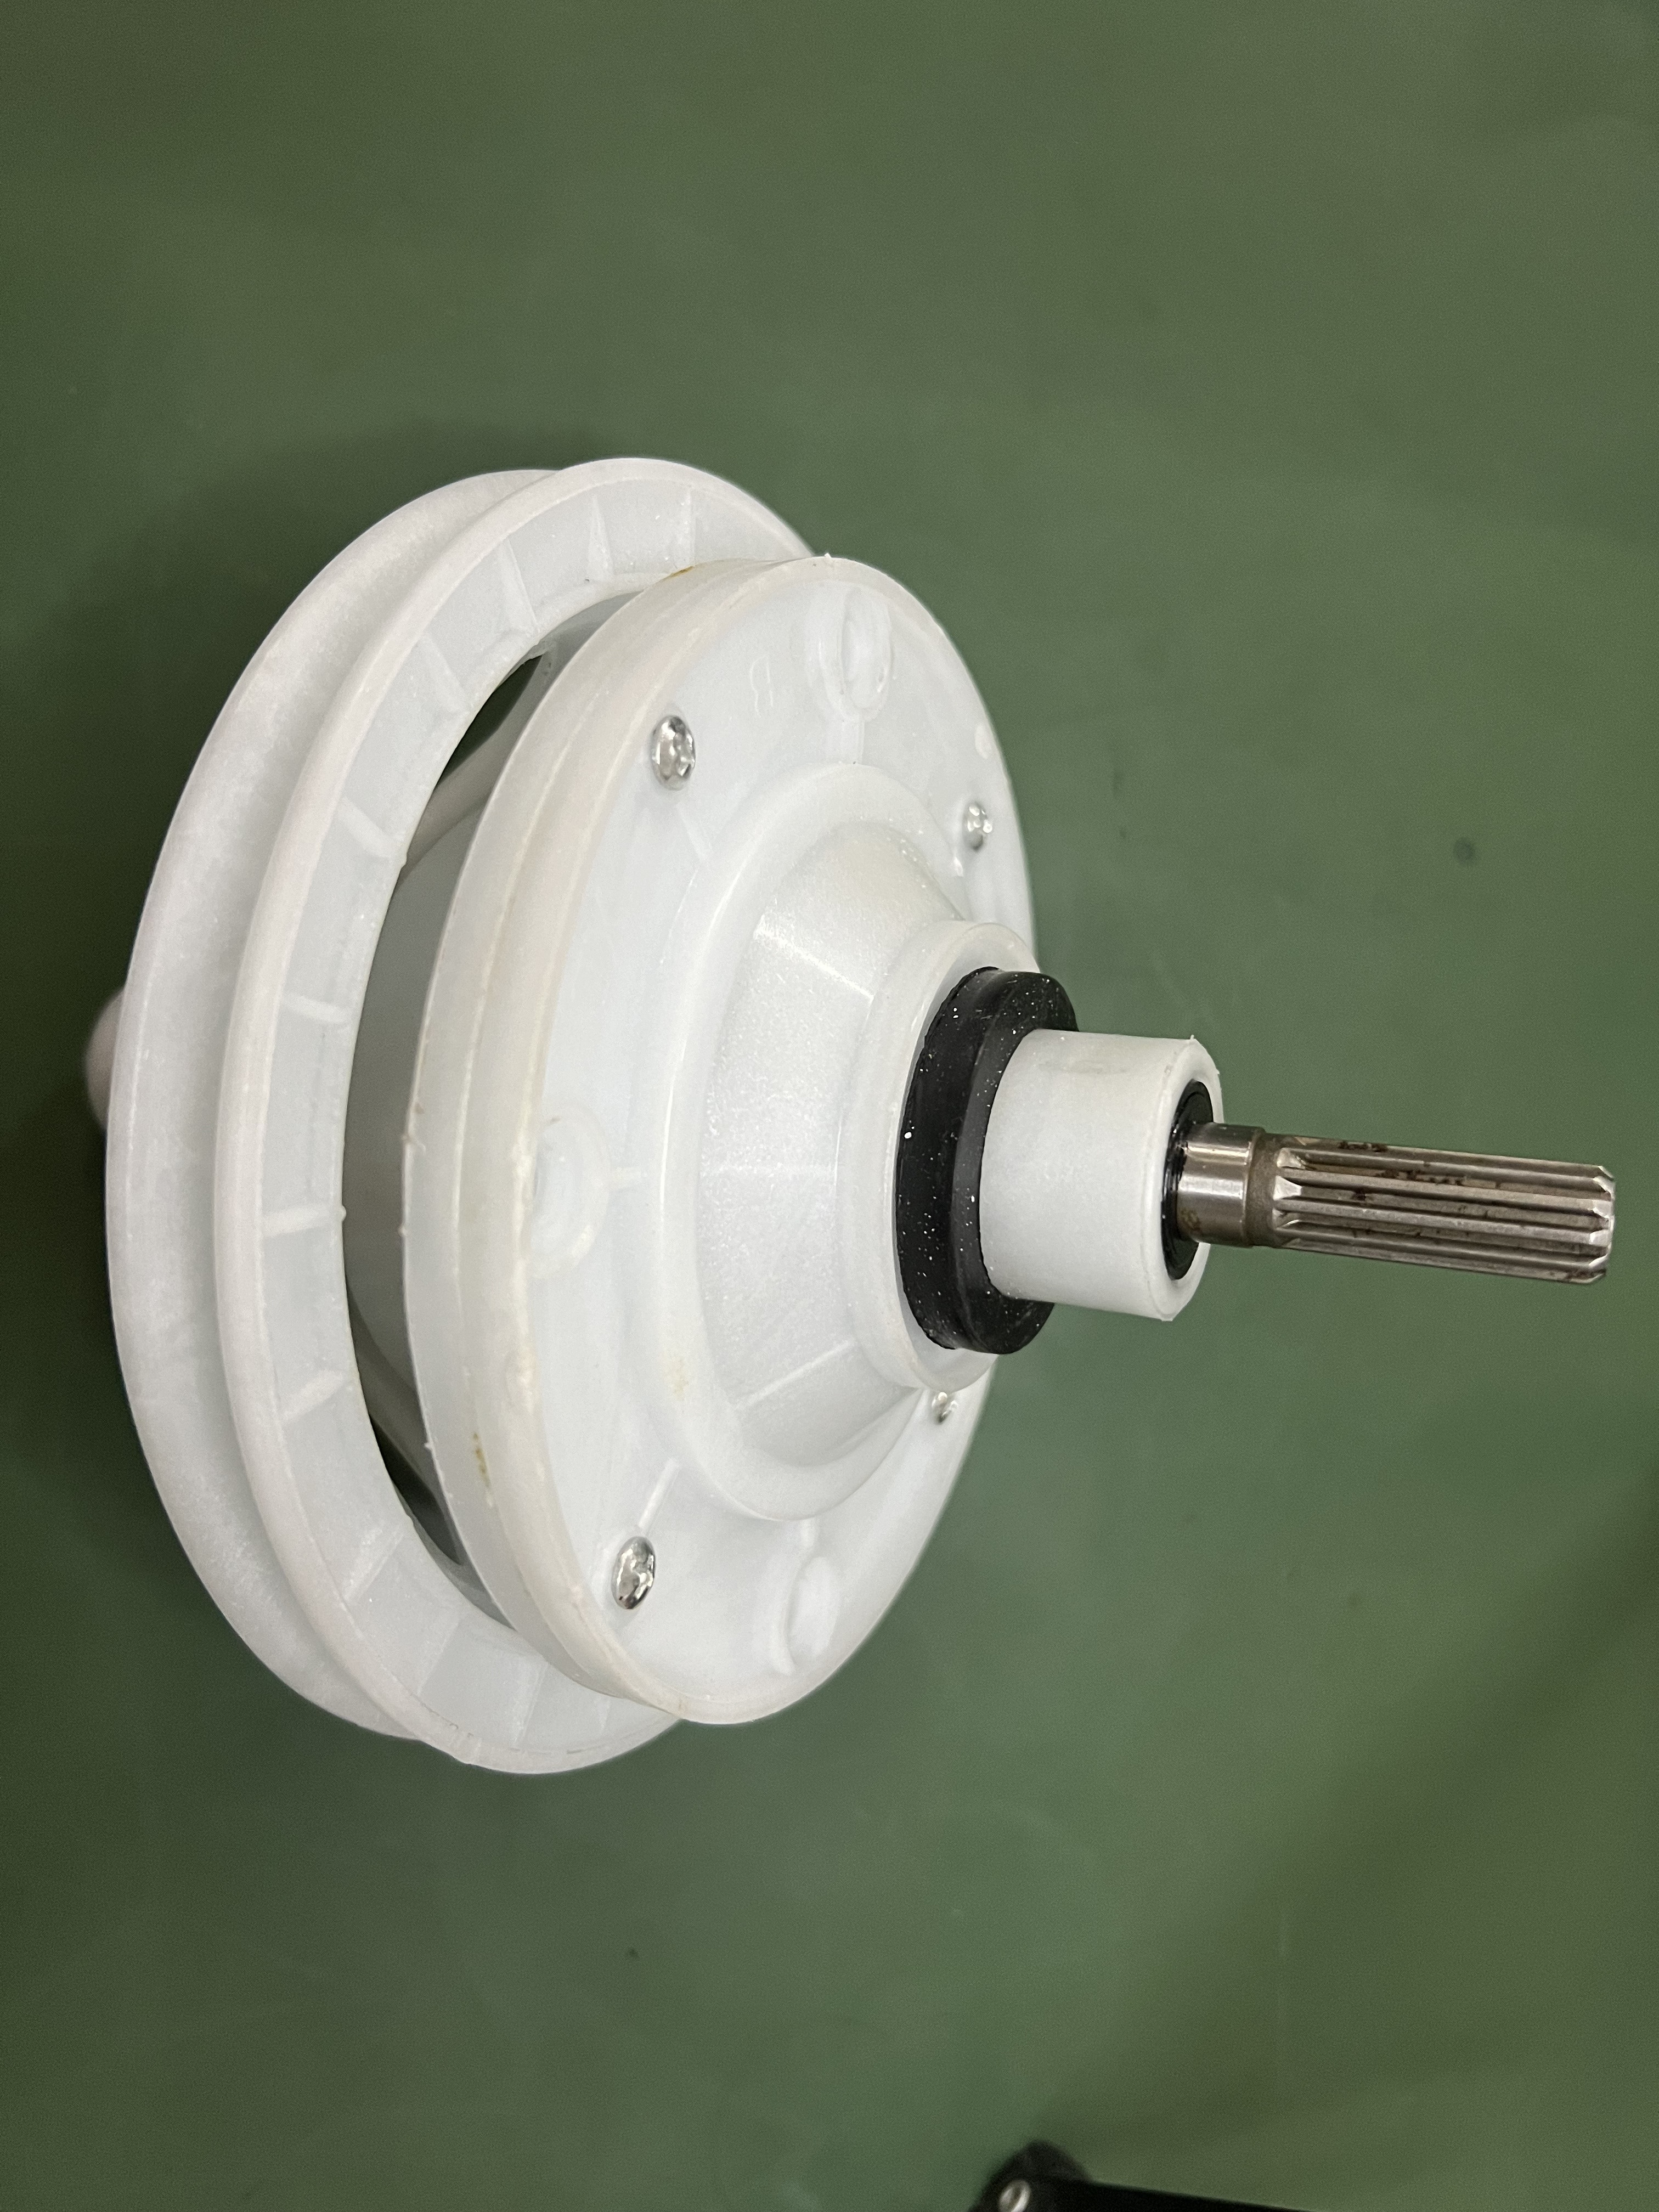gear_box_circle: (61, 467, 1621, 1770)
